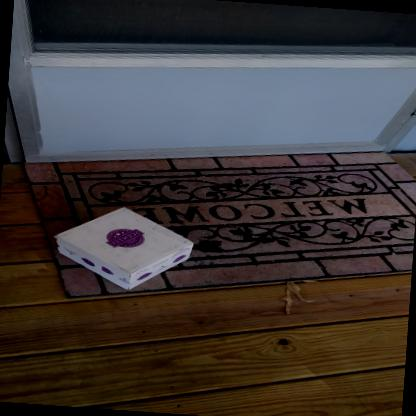box: (53, 204, 197, 292)
